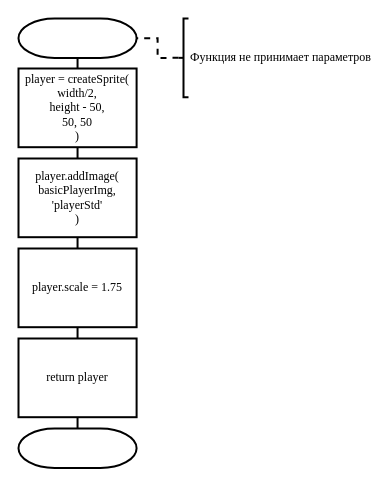
Some shapes in this 388 by 486 pixel diagram are drawn without their labels. The shapes that lost their labels are listed below. From the top down, each one's centre as x and y in pixels, then its label:
At (77,37): "GameState ::createPlayer()".
At (77,447): "Конец".
